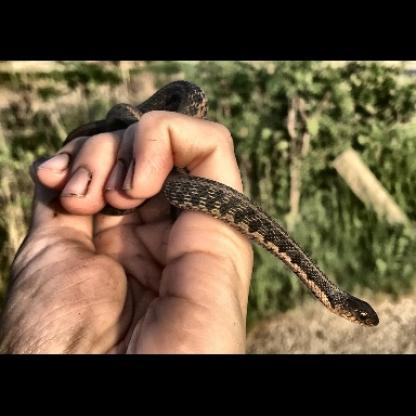Snake: (53, 81, 380, 328), (304, 278, 390, 328)
